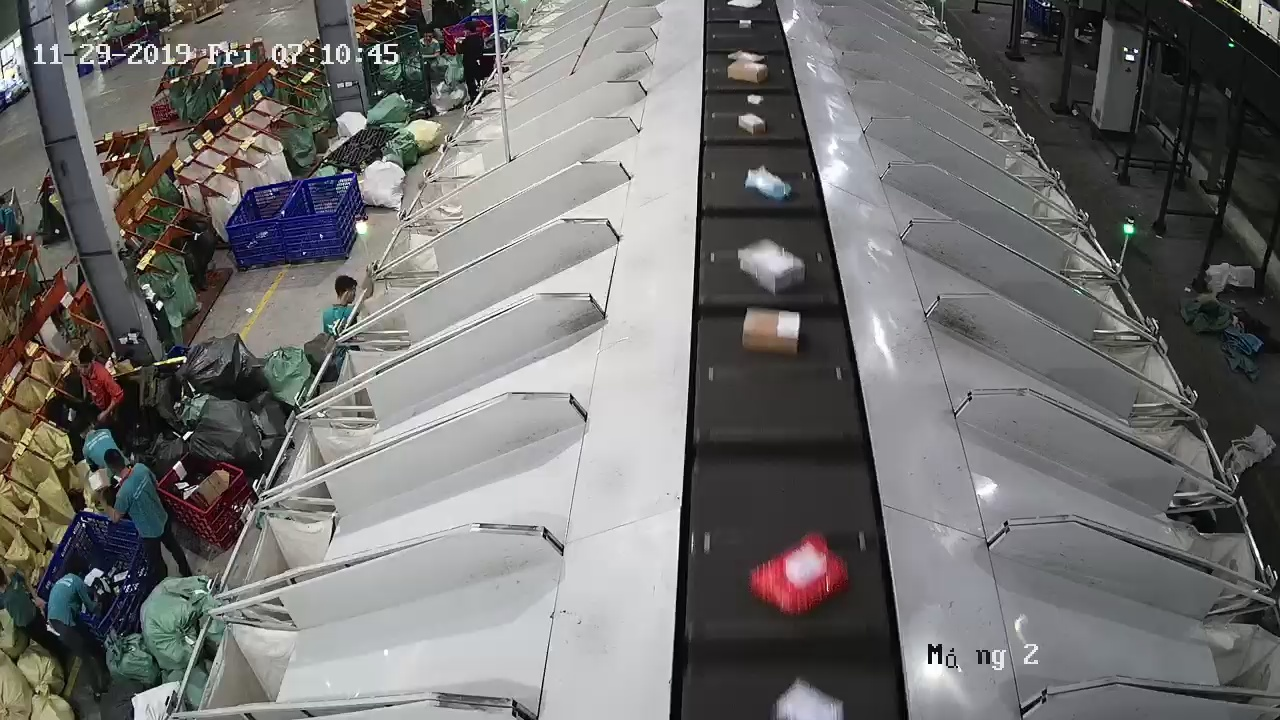parcel: (749, 534, 849, 617), (737, 239, 806, 294), (742, 307, 800, 357), (744, 165, 792, 201), (738, 113, 766, 136)
